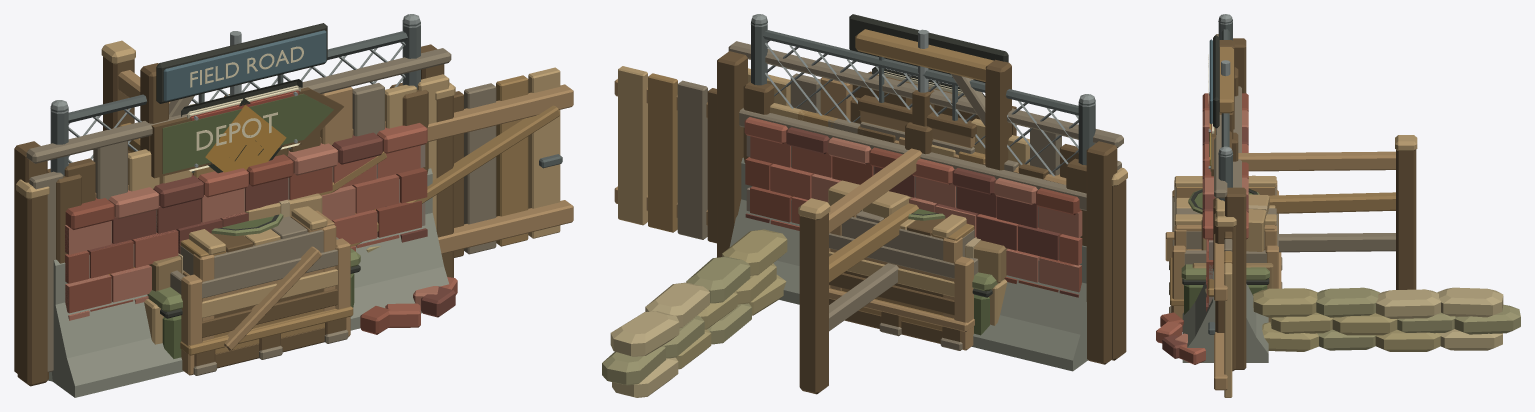
Rendered from field_props.glb.
3 renders of one model, left to right at view 1: azimuth 30°, elevation 25°; view 2: azimuth 150°, elevation 25°; view 3: azimuth 270°, elevation 25°, orthographic. The views are drawn at different scales.
Parts seen in each view (by area): view 1: BrickWall, FarmGateLeaf, PlankScreen, ConcreteBarrier, OpenCrate, BrokenBrick, TimberCrate, FarmRail, FieldRoad, DepotArrow, ChainLink, ShippingPallet (+8 smaller); view 2: PlankScreen, FarmGateLeaf, BrickWall, SandbagCorner, FarmCorner, ConcreteBarrier, BlankSign, ChainLink, OpenCrate, BrokenBrick, TimberCrate, FarmGate (+8 smaller); view 3: SandbagCorner, FarmCorner, PlankScreen, TimberCrate, FarmGateLeaf, ConcreteBarrier, BrickWall, OpenCrate, CartonStack, BrokenBrick, SupplyCase, FarmRail (+4 smaller).
Boxes of the visible parts, x1,y1,x2,y2 form: BrickWall: [65, 123, 427, 320]; FarmGateLeaf: [350, 67, 573, 257]; PlankScreen: [14, 44, 451, 373]; ConcreteBarrier: [52, 168, 448, 397]; OpenCrate: [170, 237, 350, 375]; BrokenBrick: [65, 193, 457, 334]; TimberCrate: [180, 206, 336, 350]; FarmRail: [16, 82, 455, 386]; FieldRoad: [156, 23, 327, 103]; DepotArrow: [150, 87, 343, 178]; ChainLink: [48, 14, 420, 381]; ShippingPallet: [180, 306, 353, 375]; PlankScreen: [717, 41, 1123, 364]; FarmGateLeaf: [614, 66, 882, 243]; BrickWall: [744, 117, 1082, 296]; SandbagCorner: [602, 229, 787, 397]; FarmCorner: [798, 148, 1066, 394]; ConcreteBarrier: [729, 157, 1087, 371]; BlankSign: [855, 29, 1011, 170]; ChainLink: [751, 14, 1095, 176]; OpenCrate: [829, 233, 978, 350]; BrokenBrick: [770, 181, 1082, 297]; TimberCrate: [830, 211, 974, 318]; FarmGate: [743, 81, 1086, 246]; SandbagCorner: [1253, 287, 1520, 351]; FarmCorner: [1238, 135, 1417, 289]; PlankScreen: [1214, 34, 1246, 369]; TimberCrate: [1165, 176, 1277, 261]; FarmGateLeaf: [1207, 231, 1232, 397]; ConcreteBarrier: [1182, 268, 1268, 362]; BrickWall: [1202, 93, 1248, 311]; OpenCrate: [1172, 190, 1278, 319]; CartonStack: [1192, 175, 1273, 322]; BrokenBrick: [1156, 312, 1205, 364]; SupplyCase: [1181, 264, 1269, 314]; FarmRail: [1214, 213, 1236, 371].
Bounding box in the file's own units: 3.91 × 2.04 × 2.93.
